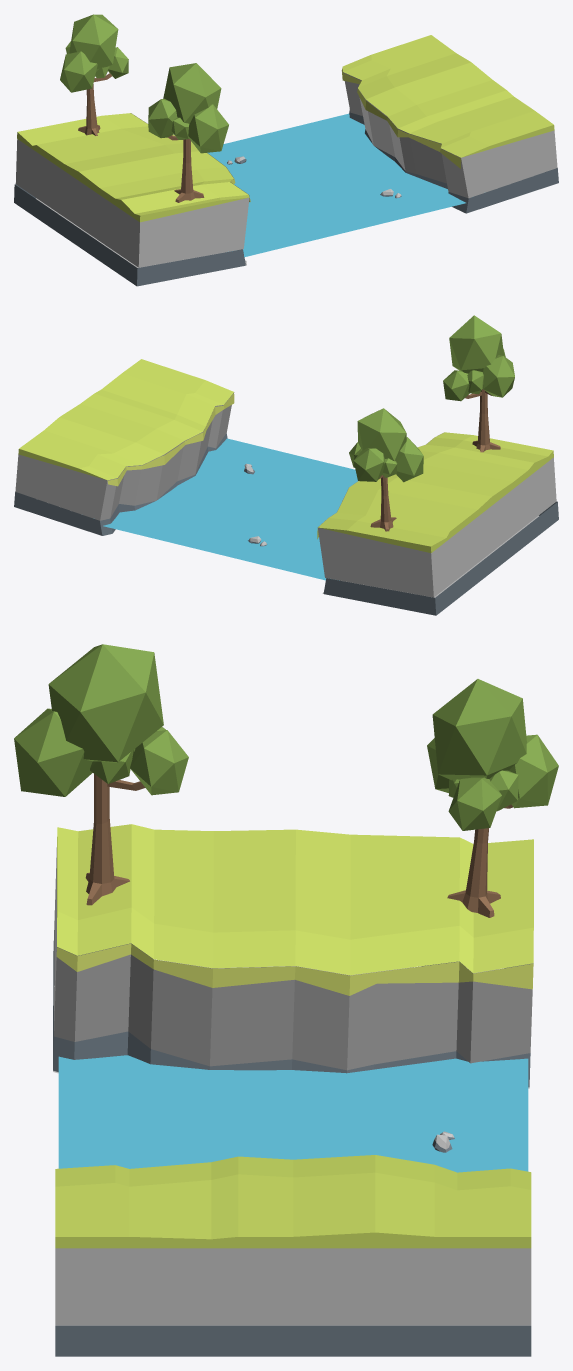
File: bekforGandalf.glb
3 renders of one model, top to bottom at view 1: azimuth 30°, elevation 25°; view 2: azimuth 150°, elevation 25°; view 3: azimuth 270°, elevation 25°, orthographic. The views are drawn at different scales.
Parts seen in each view (by area): view 1: Plane.001, Cube.041, Cube.045, Cube.044, Cube.040, Icosphere.011, Cube.046, Icosphere.008, Cube.042, Cube.043, Icosphere.012, Icosphere.009; view 2: Plane.001, Cube.041, Cube.045, Cube.044, Cube.040, Cube.046, Icosphere.011, Icosphere.008, Cube.042, Cube.043, Icosphere.012, Icosphere.009; view 3: Cube.045, Plane.001, Cube.041, Cube.044, Cube.040, Icosphere.011, Cube.042, Icosphere.008, Cube.047, Cube.046, Icosphere.012, Icosphere.009.
Part boxes in pixels (bbox=[...]): Plane.001: bbox=[207, 113, 465, 257]; Cube.041: bbox=[342, 35, 554, 157]; Cube.045: bbox=[17, 113, 249, 222]; Cube.044: bbox=[15, 113, 249, 267]; Cube.040: bbox=[343, 72, 557, 213]; Icosphere.011: bbox=[148, 63, 228, 153]; Cube.046: bbox=[14, 184, 245, 286]; Icosphere.008: bbox=[60, 14, 128, 92]; Cube.042: bbox=[349, 109, 558, 213]; Cube.043: bbox=[341, 68, 461, 168]; Icosphere.012: bbox=[168, 135, 204, 202]; Icosphere.009: bbox=[78, 73, 111, 135]; Plane.001: bbox=[103, 438, 357, 580]; Cube.041: bbox=[18, 359, 233, 480]; Cube.045: bbox=[318, 432, 553, 552]; Cube.044: bbox=[318, 438, 556, 597]; Cube.040: bbox=[15, 392, 234, 535]; Cube.046: bbox=[323, 501, 558, 615]; Icosphere.011: bbox=[443, 315, 514, 401]; Icosphere.008: bbox=[349, 408, 423, 482]; Cube.042: bbox=[14, 433, 227, 535]; Cube.043: bbox=[107, 393, 234, 486]; Icosphere.012: bbox=[465, 389, 500, 452]; Icosphere.009: bbox=[370, 475, 396, 531]; Cube.045: bbox=[57, 824, 533, 975]; Plane.001: bbox=[58, 1055, 528, 1172]; Cube.041: bbox=[55, 1155, 531, 1248]; Cube.044: bbox=[53, 847, 533, 1088]; Cube.040: bbox=[55, 1248, 531, 1325]; Icosphere.011: bbox=[14, 644, 188, 796]; Cube.042: bbox=[55, 1325, 531, 1356]; Icosphere.008: bbox=[427, 679, 558, 830]; Cube.047: bbox=[56, 943, 533, 995]; Cube.046: bbox=[53, 930, 530, 1087]; Icosphere.012: bbox=[85, 774, 145, 905]; Icosphere.009: bbox=[447, 804, 512, 917].
Bounding box in the file's own units: 15.29 × 7.22 × 8.81.
